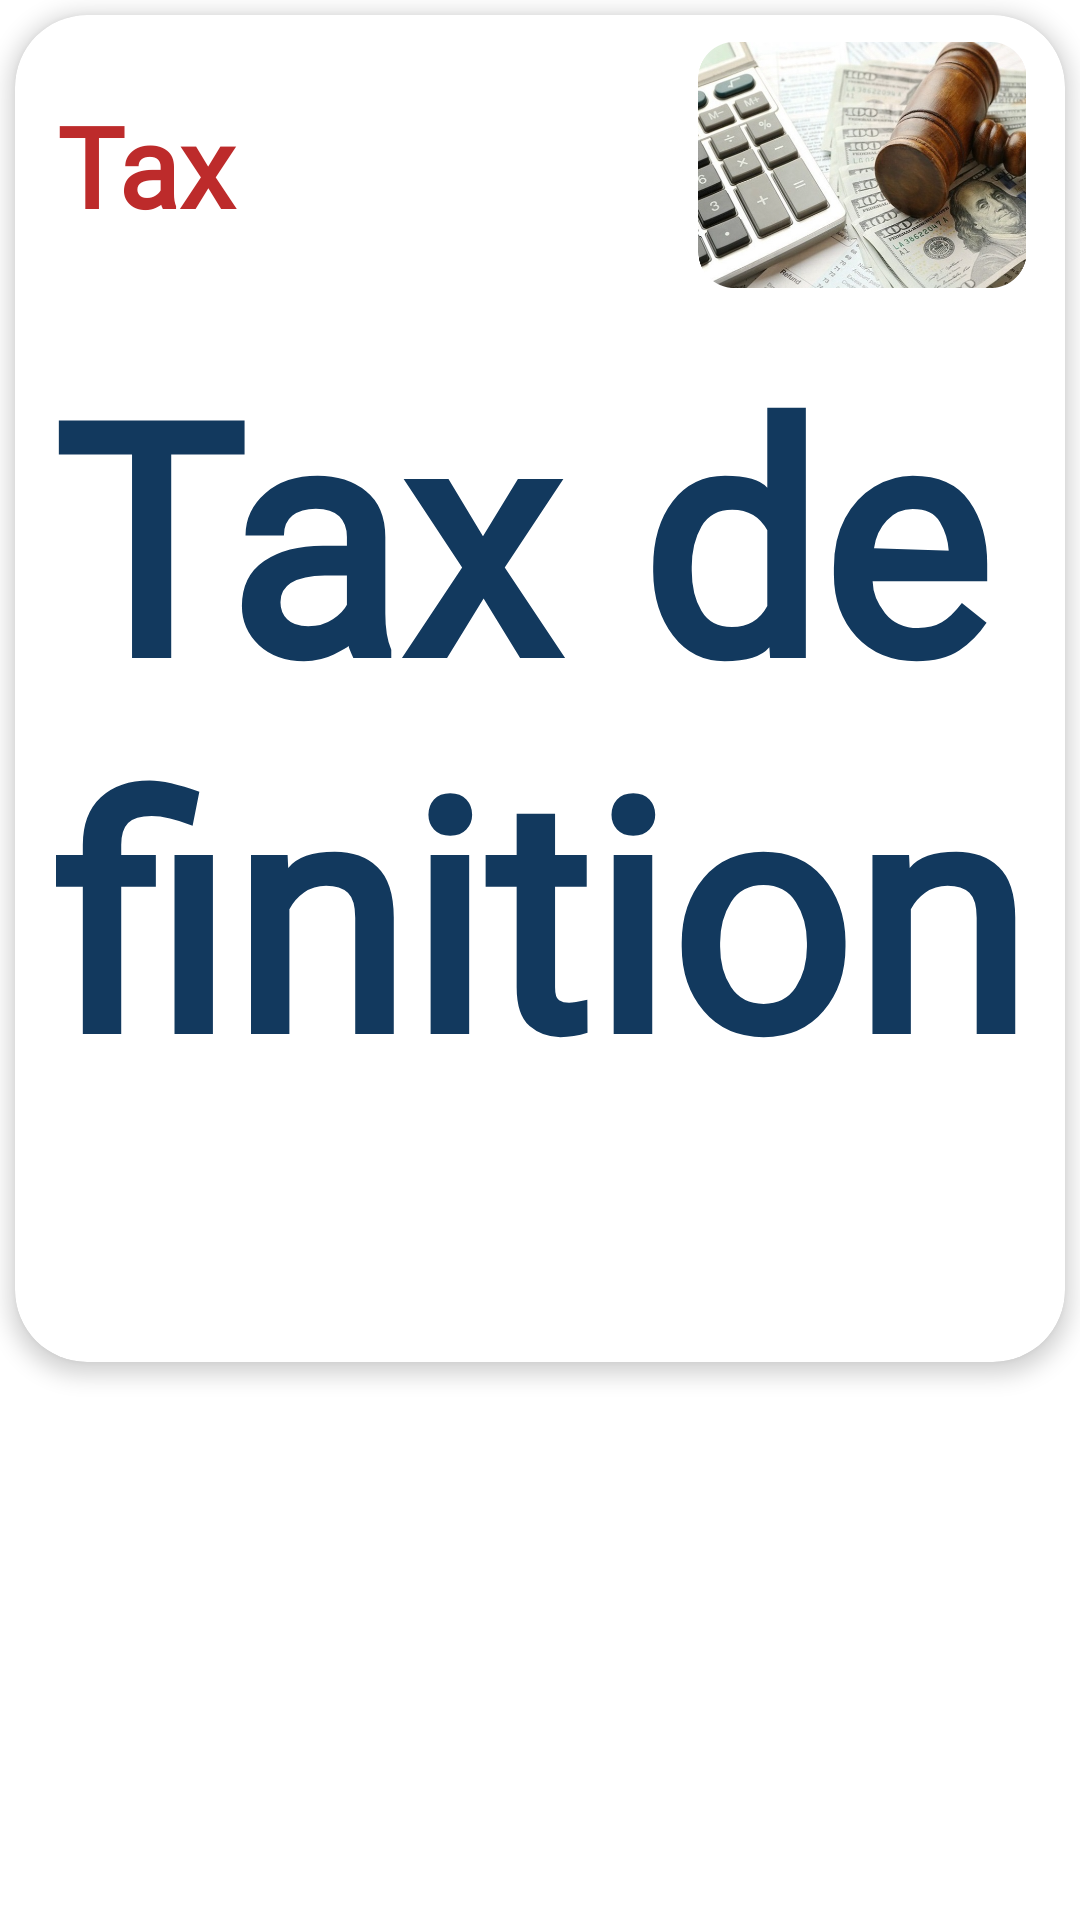

Named icons in this screenshot (1080 × 1920) and their bounding boxes, box=[x1, y1, x2, y2]:
taxesimg: box=[698, 42, 1026, 288]
